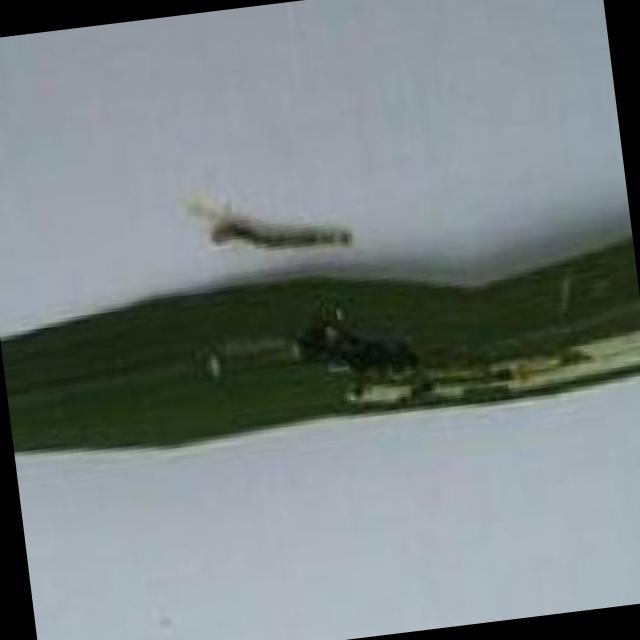leaf-folder: (173, 162, 363, 290)
